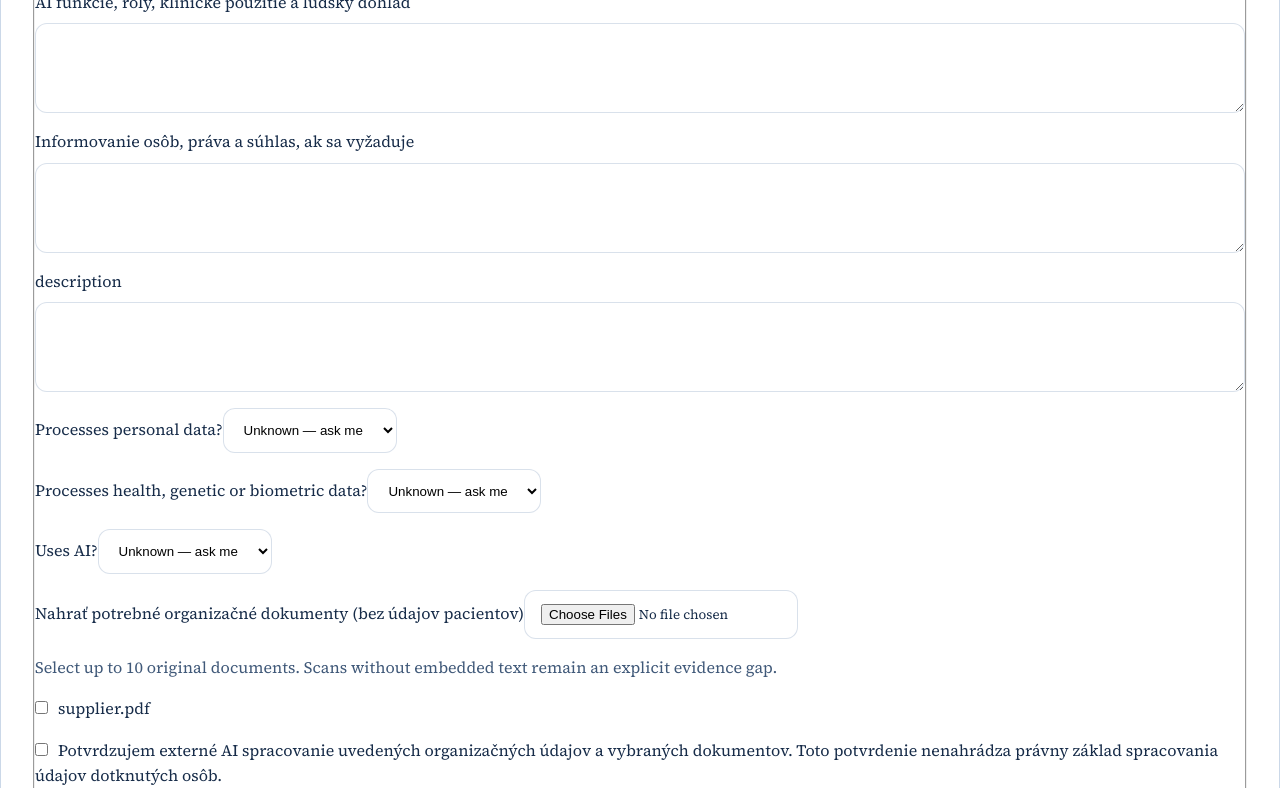
Test case: Software assessment › uses the distinct IT contract, preserves country and only recommends documentation
(page scrolled)
In the text box labelled "description": x=640, y=347 [35,302,1245,392], type "Synthetic Czech ZdravieHospital warehouse"
(page scrolled)
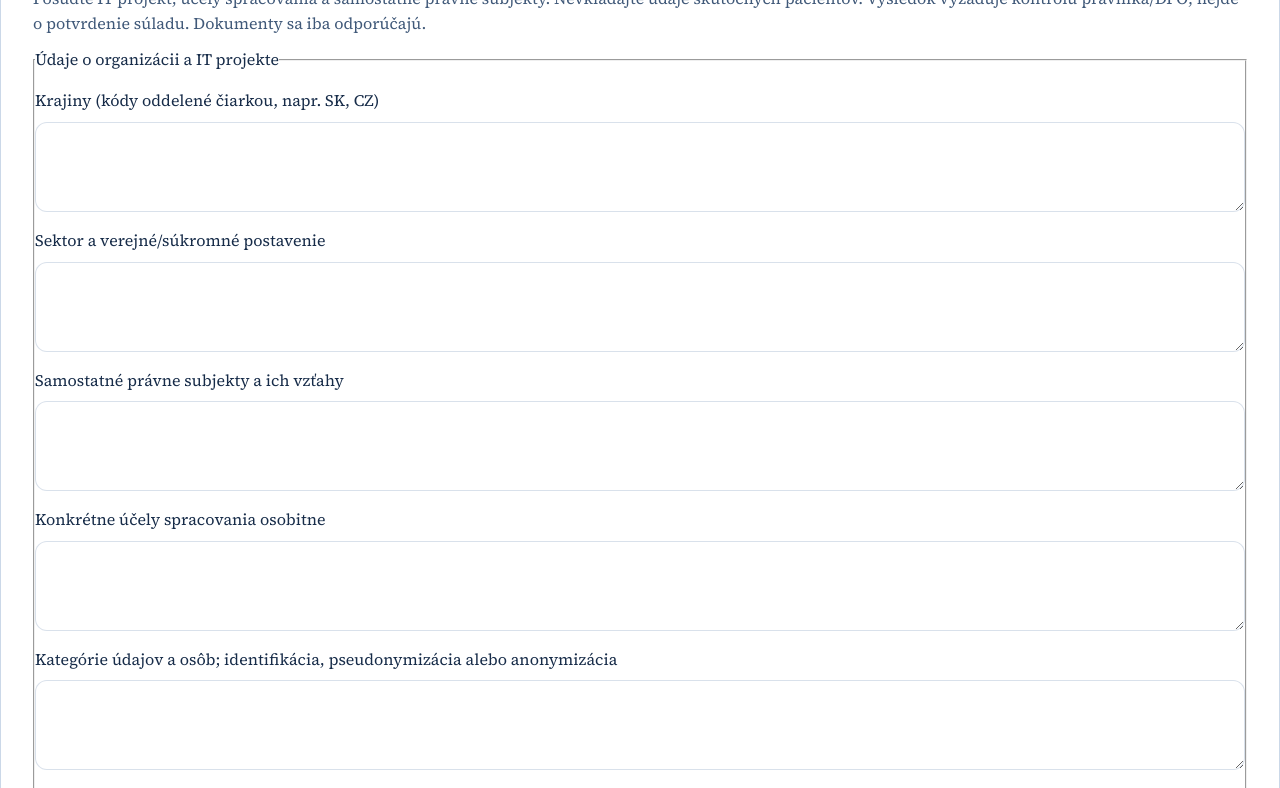
In the text box labelled "Krajiny (kódy oddelené čiarkou, napr. SK, CZ)": x=640, y=167 [35,122,1245,212], type "CZ"
(page scrolled)
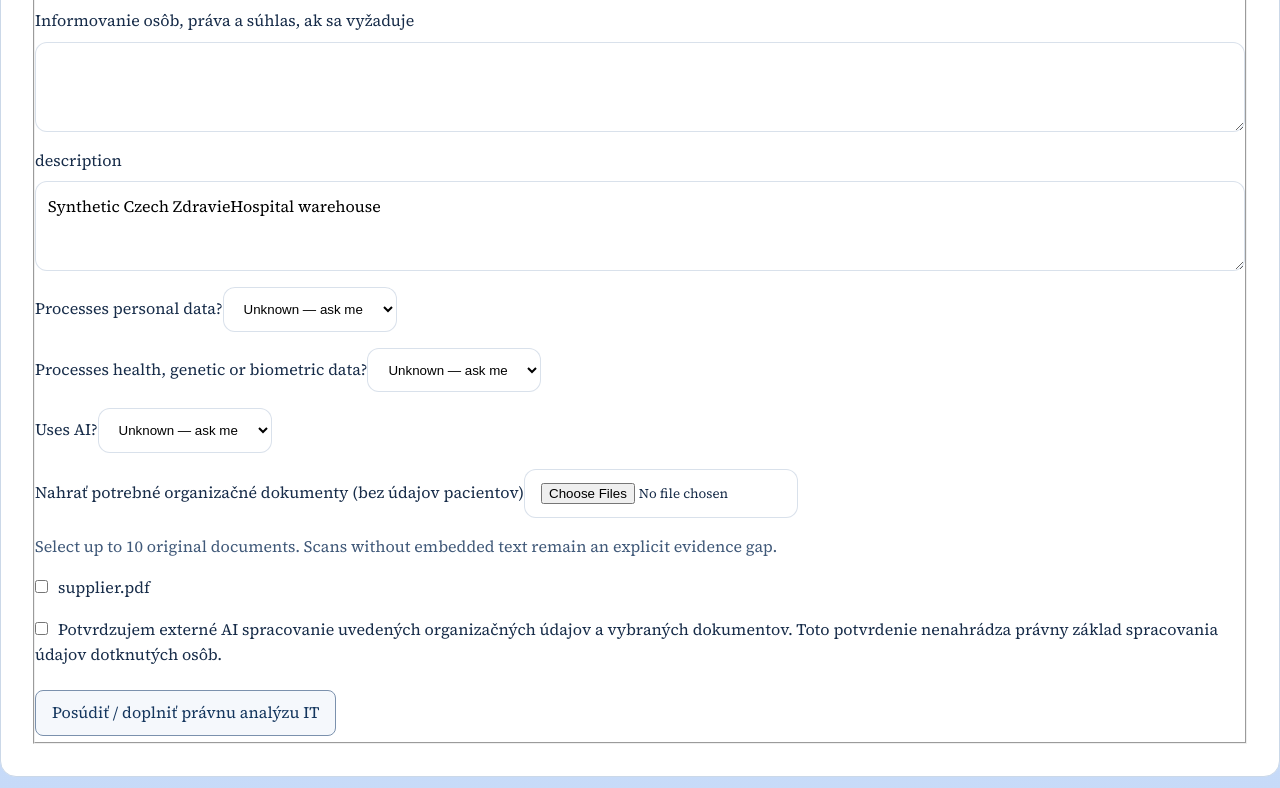
Click the button "Posúdiť / doplniť právnu analýzu IT": x=186, y=713 [35,690,336,736]
(page scrolled)
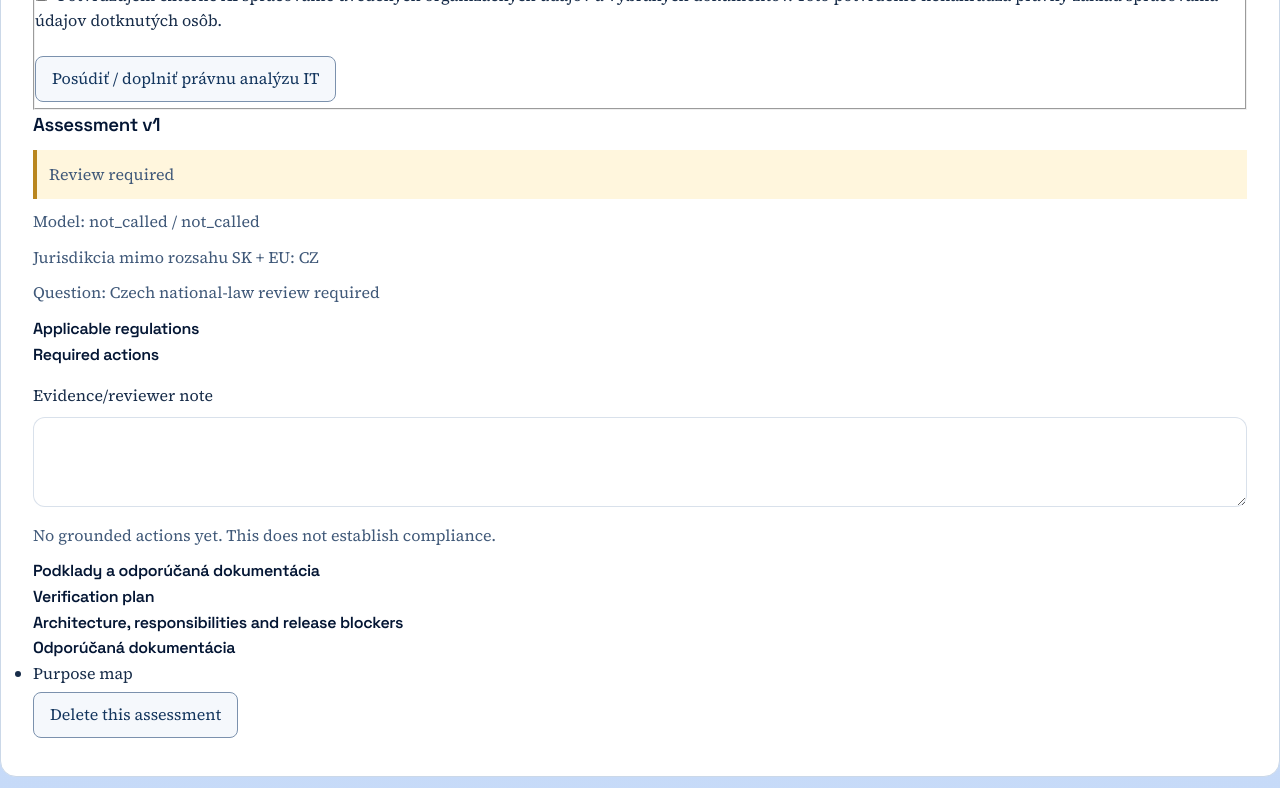
Expected: the text "Jurisdikcia mimo rozsahu SK + EU: CZ" is shown, [33,246,319,268]
Expected: the list item "Purpose map" is shown, [33,662,133,684]
